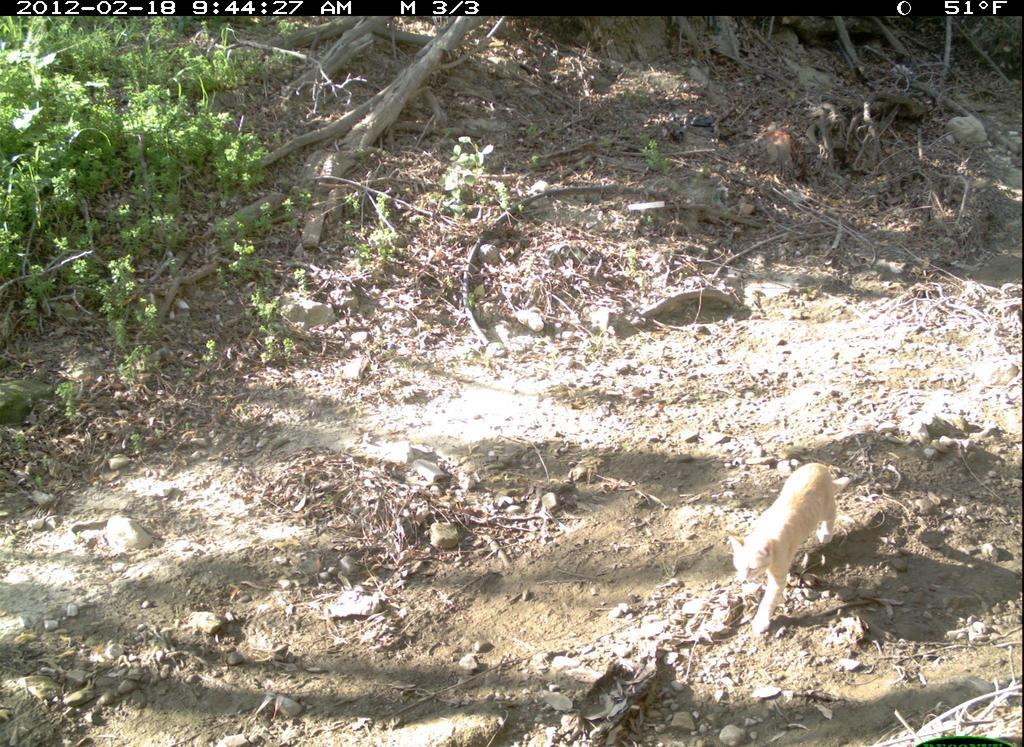cat: (722, 456, 847, 644)
